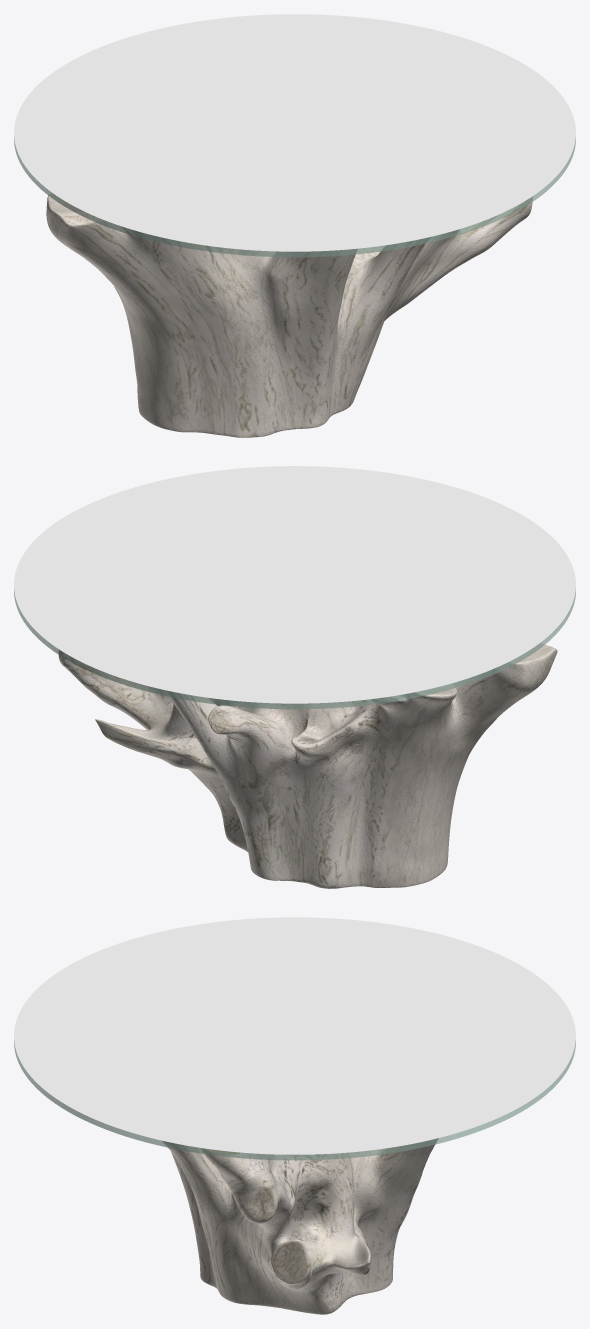
Rendered from mesa_raiz.glb.
The picture shows the model from 3 angles, top to bottom: view 1: azimuth 30°, elevation 25°; view 2: azimuth 150°, elevation 25°; view 3: azimuth 270°, elevation 25°; orthographic projection.
Parts seen in each view (by area): view 1: tampo_vidro, raiz, tampo_vidro_borda; view 2: tampo_vidro, raiz, tampo_vidro_borda; view 3: tampo_vidro, raiz, tampo_vidro_borda.
Part boxes in pixels (left/top/right/bottom): tampo_vidro: left=14, top=14, right=575, bottom=251; raiz: left=46, top=193, right=532, bottom=437; tampo_vidro_borda: left=14, top=137, right=575, bottom=257; tampo_vidro: left=14, top=466, right=575, bottom=703; raiz: left=58, top=643, right=557, bottom=888; tampo_vidro_borda: left=14, top=589, right=575, bottom=709; tampo_vidro: left=14, top=917, right=575, bottom=1154; raiz: left=162, top=1138, right=438, bottom=1314; tampo_vidro_borda: left=14, top=1040, right=575, bottom=1160.
Bounding box in the file's own units: 0.9103 × 0.45 × 0.9.
4 materials, 2 textured.
